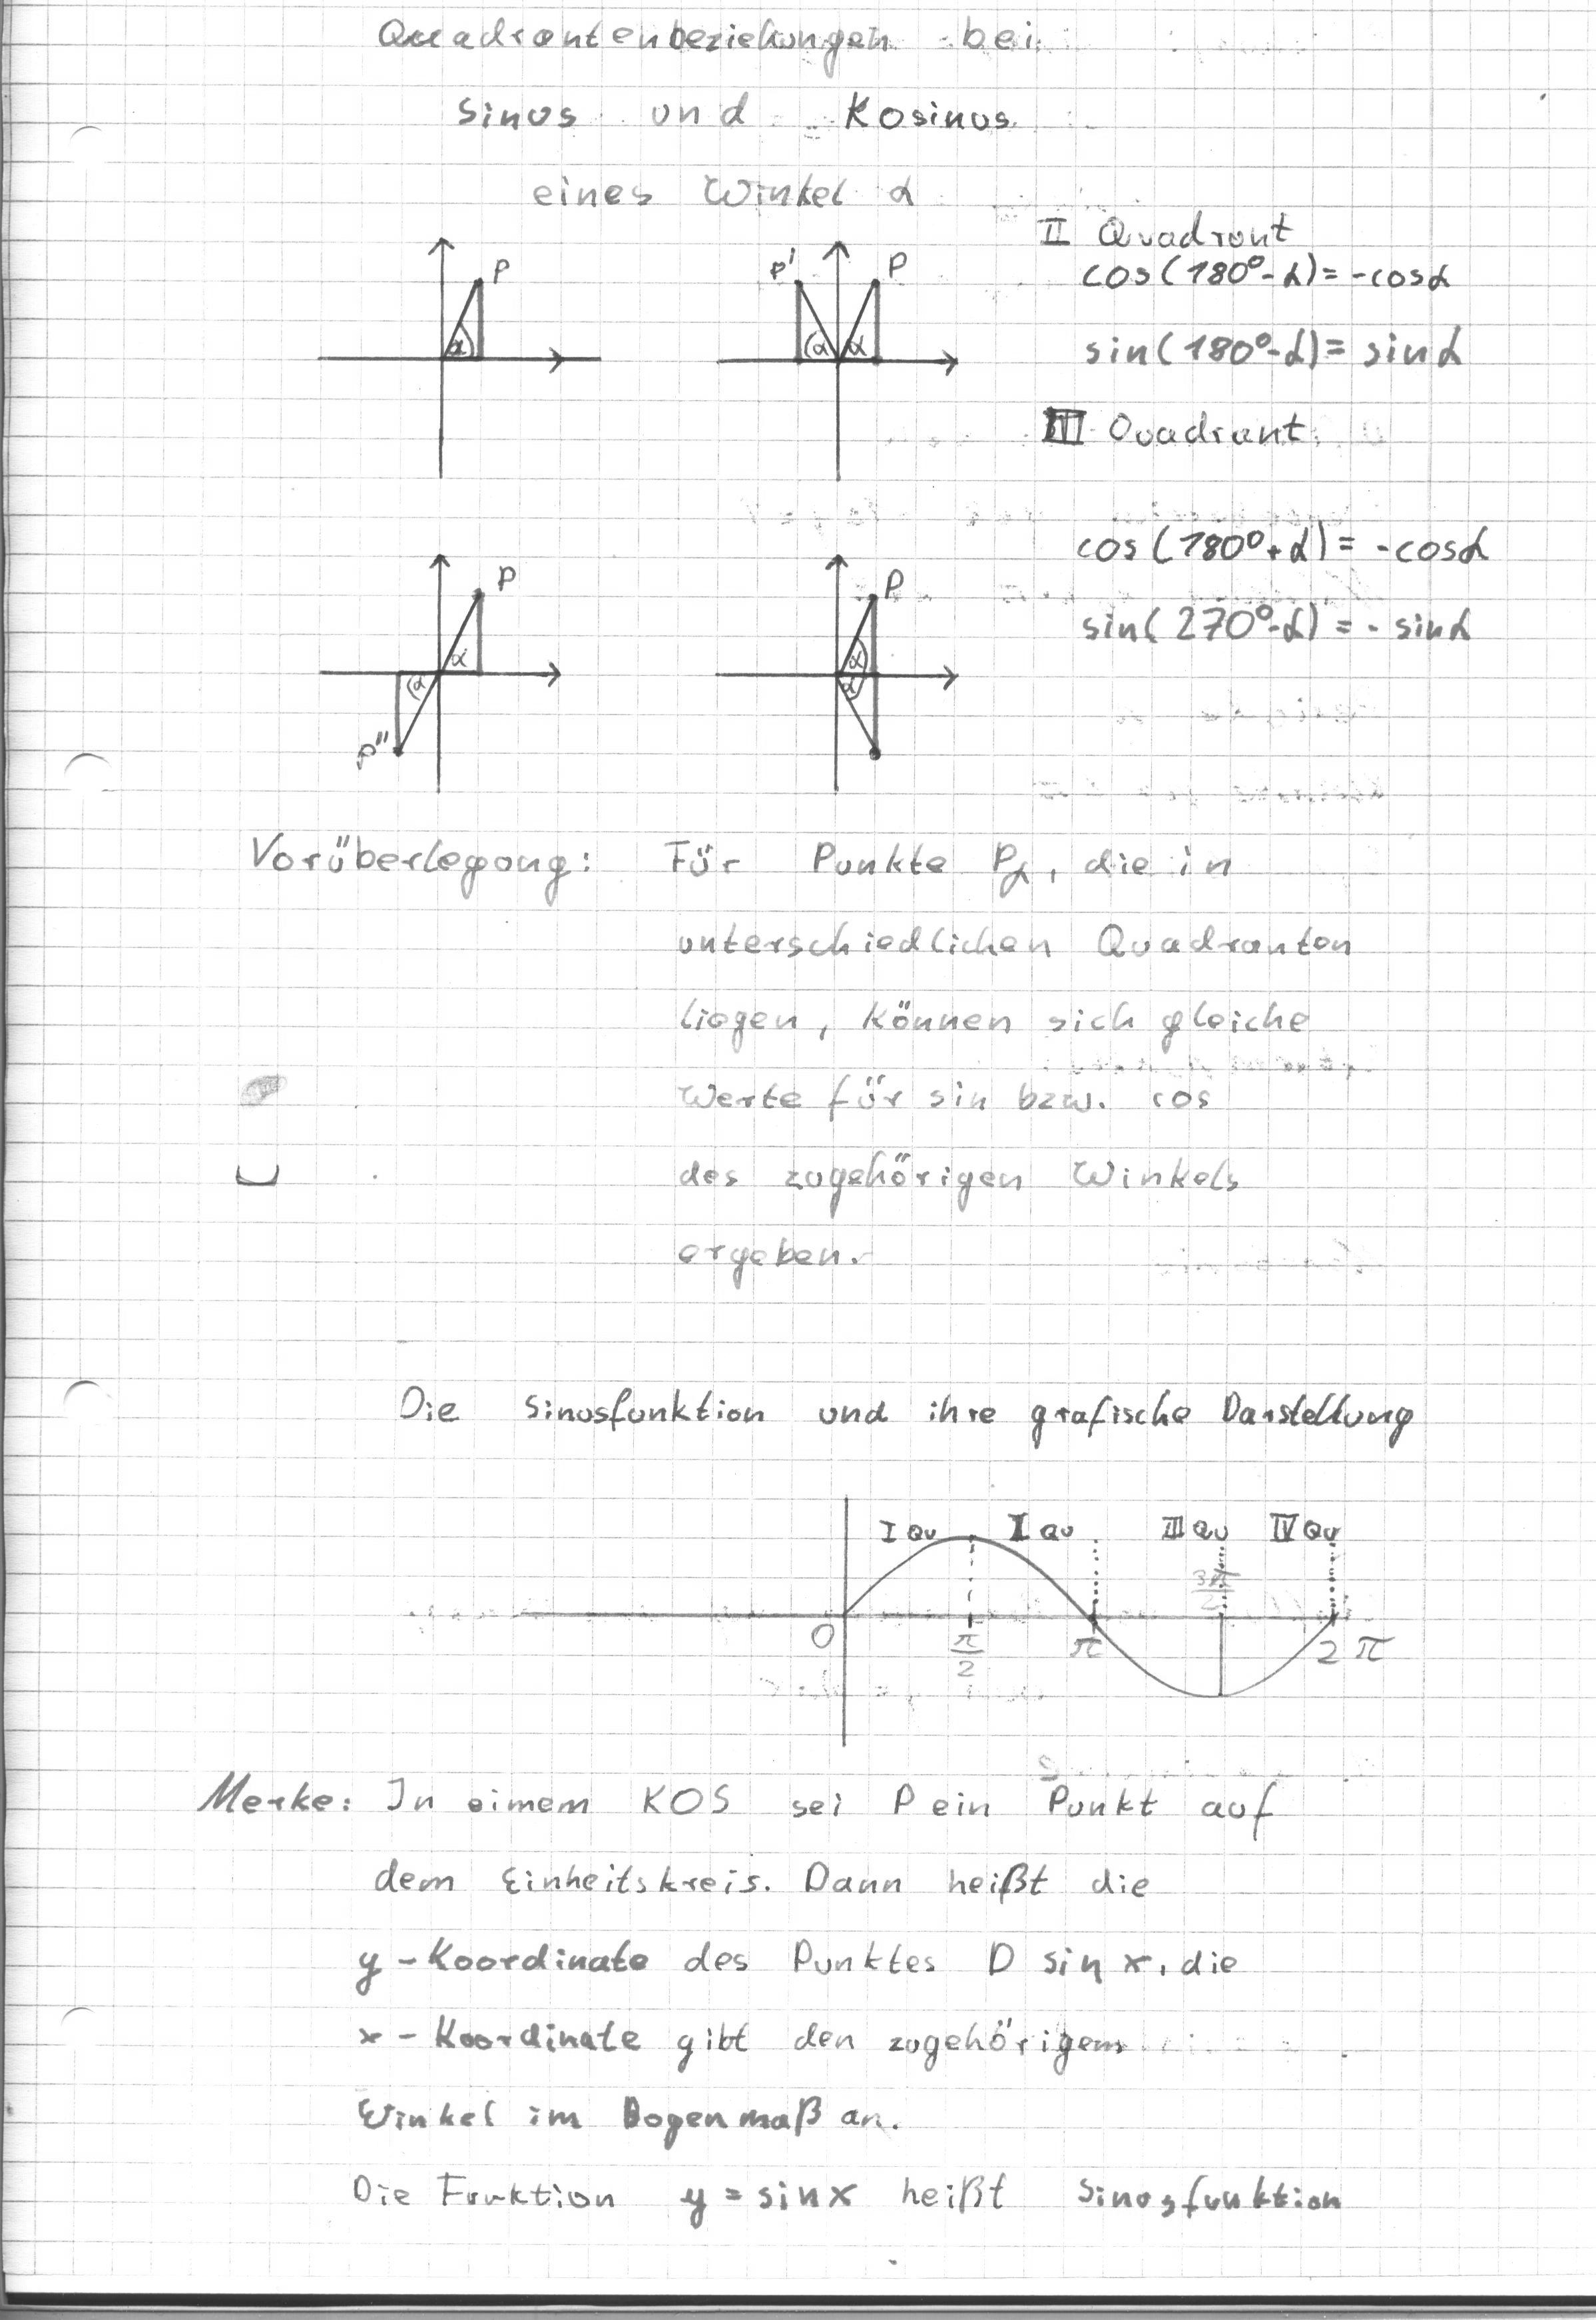word: (642, 808, 1374, 1317), (330, 1925, 1263, 2168), (363, 6, 1051, 234), (353, 1753, 1303, 1916), (334, 2156, 1364, 2236), (222, 780, 636, 940)
